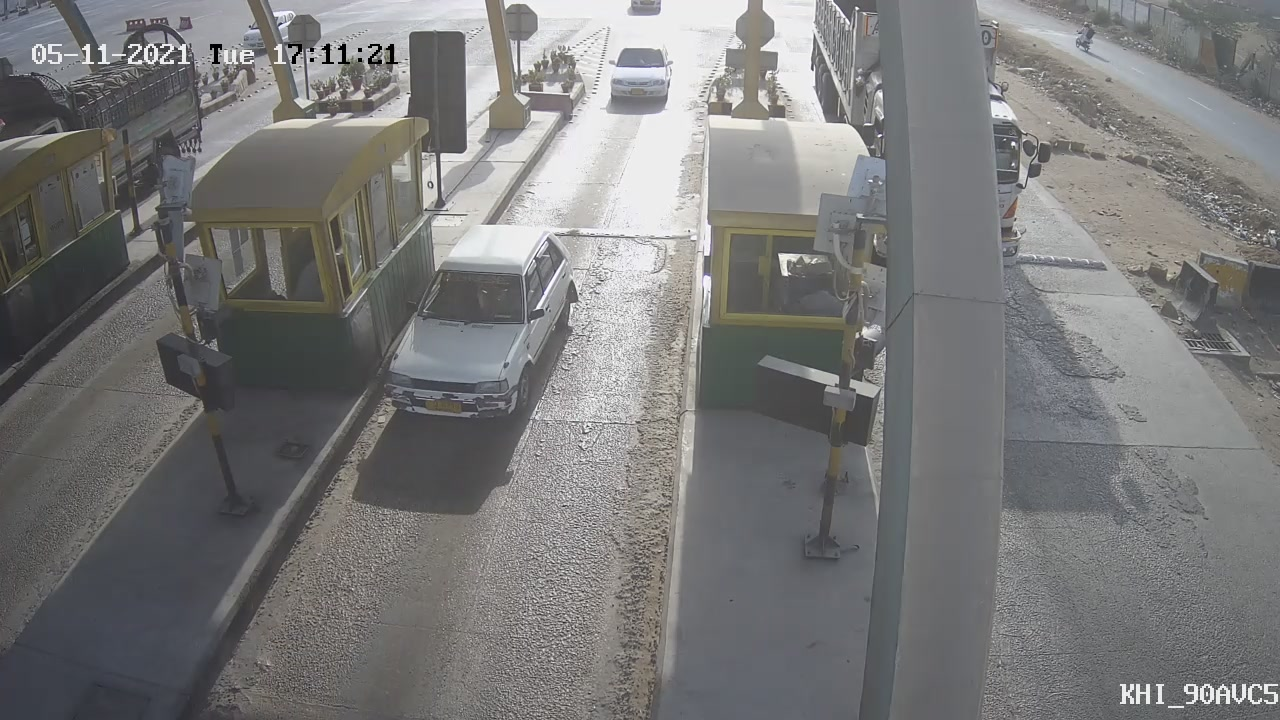F1: (364, 211, 596, 444)
